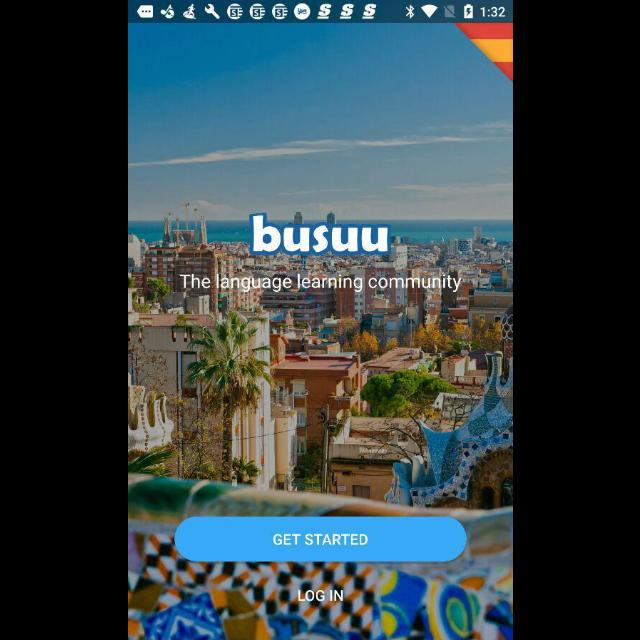backgroundimage: (128, 24, 512, 640)
image: (248, 212, 390, 256)
text: (179, 274, 461, 292), (296, 590, 344, 602)
textbutton: (174, 516, 466, 562)
uppertaskbar: (128, 1, 512, 23)
